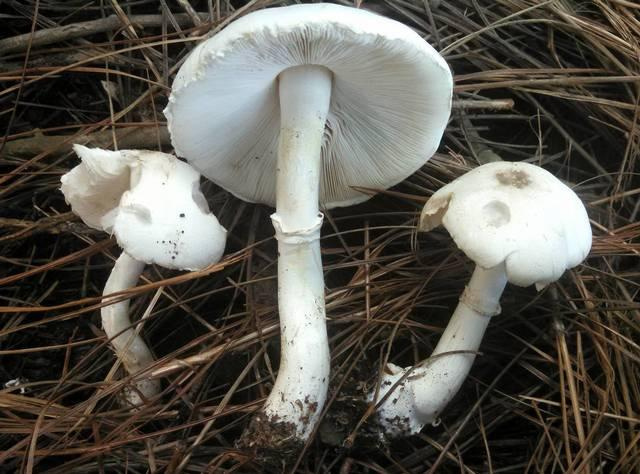poisonous_mushroom: (161, 2, 454, 454), (364, 158, 593, 441), (58, 141, 228, 411)
